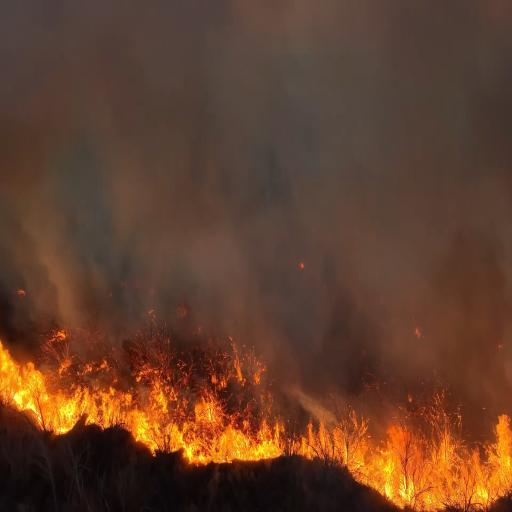fire: (182, 349, 285, 470), (0, 322, 97, 442), (97, 333, 188, 450), (379, 410, 453, 508), (292, 406, 373, 477), (457, 419, 512, 511)
smoke: (279, 0, 512, 383), (45, 2, 123, 330), (0, 0, 55, 305)
